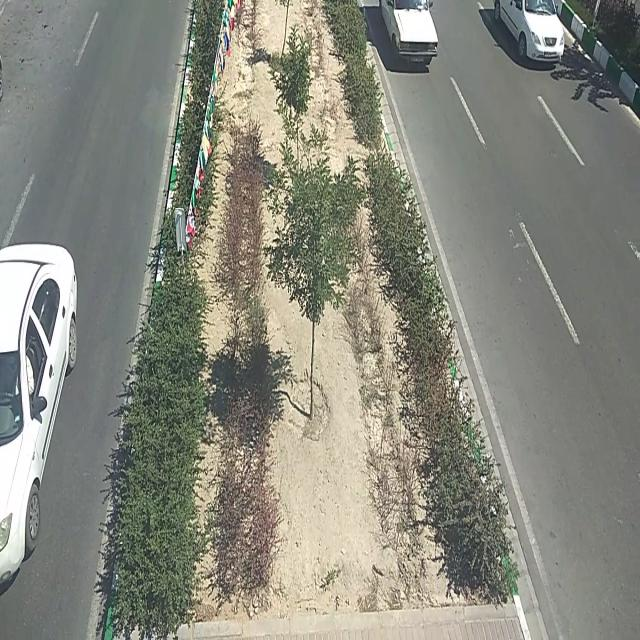car: (0, 238, 75, 585), (492, 0, 564, 65), (376, 0, 439, 69)
